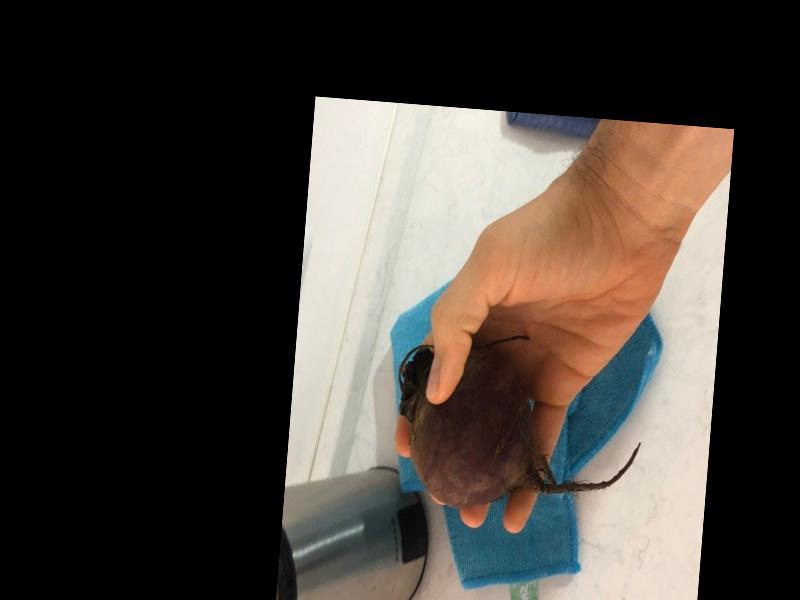Beet: (389, 327, 648, 521)
